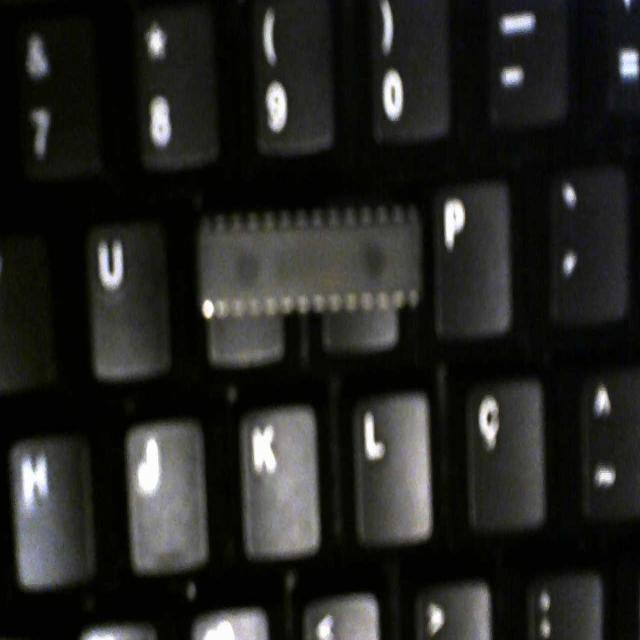atmega: (192, 207, 430, 316)
